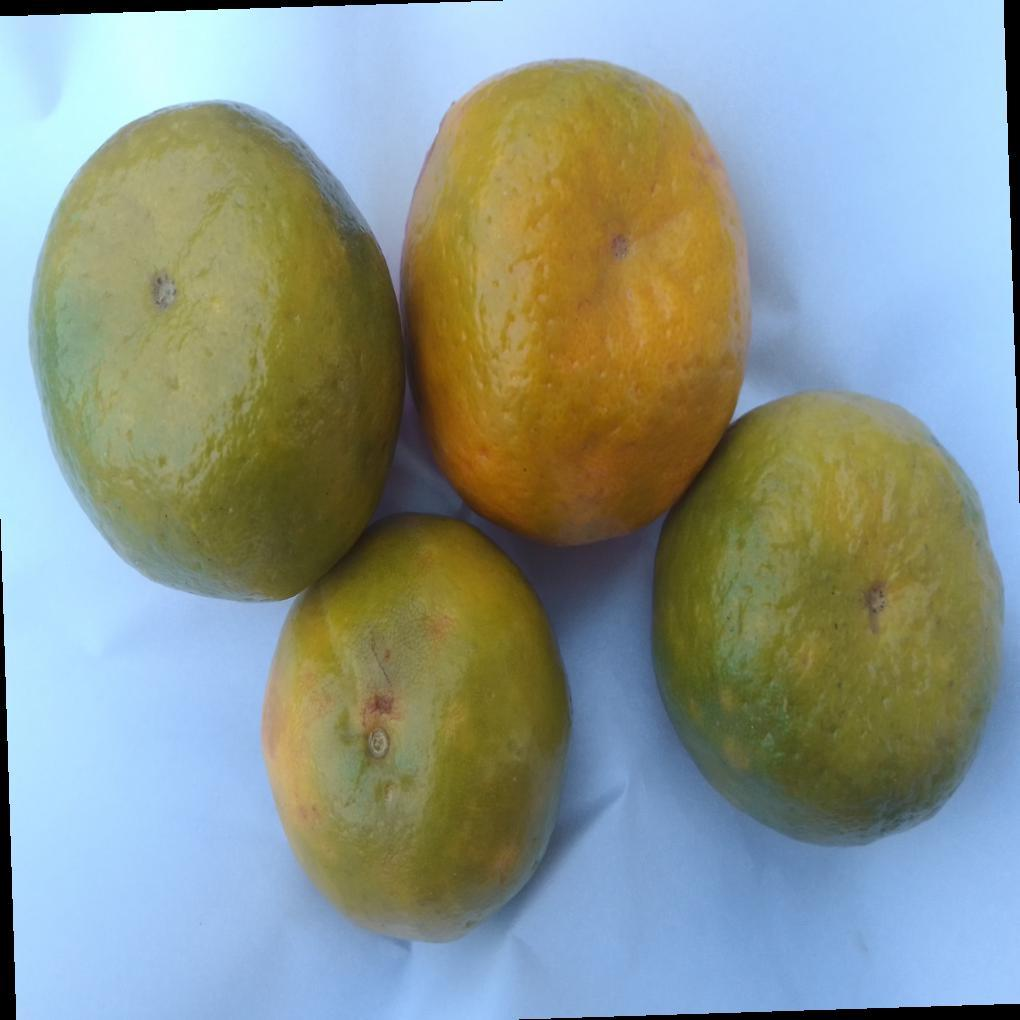FreshGuava: (29, 59, 1005, 946)
